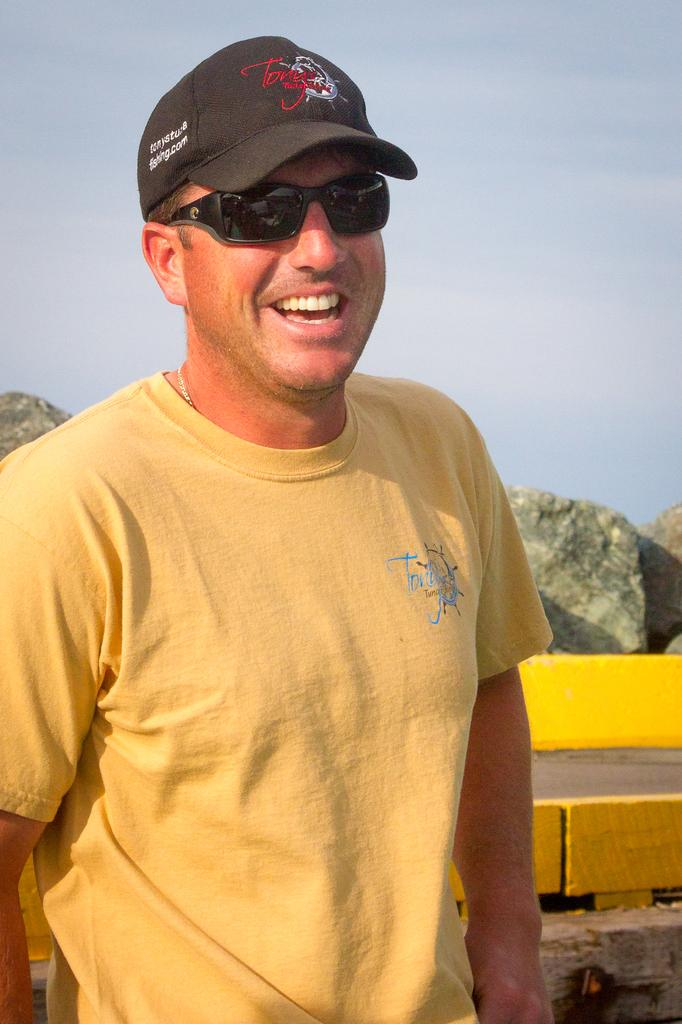Hat: (134, 24, 414, 222)
